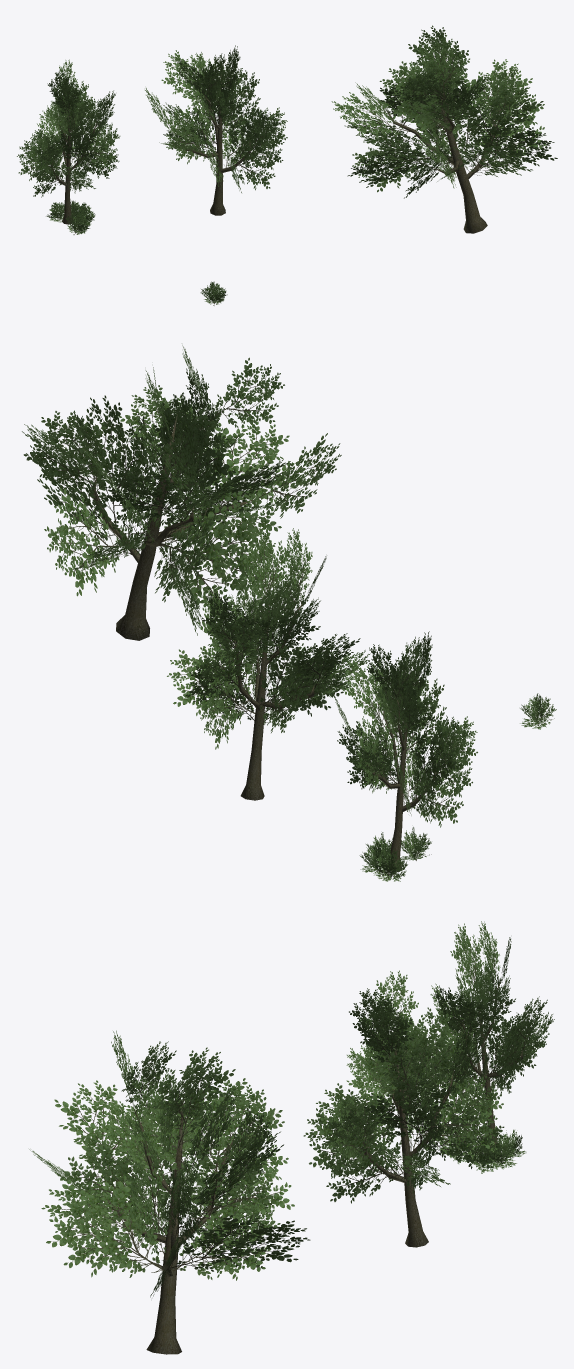
File: Trees_1_Lake_COMBO.fbx
3 renders of one model, top to bottom at view 1: azimuth 30°, elevation 25°; view 2: azimuth 150°, elevation 25°; view 3: azimuth 270°, elevation 25°, orthographic. The views are drawn at different scales.
Visible parts, largest first — view 1: Sun_0013_Large_tree; view 2: Sun_0013_Large_tree; view 3: Sun_0013_Large_tree.
Part boxes in pixels (x1,y1,x2,y2): Sun_0013_Large_tree: (17,25,557,305); Sun_0013_Large_tree: (22,345,556,881); Sun_0013_Large_tree: (29,921,554,1354).
Bounding box in the file's own units: 44.54 × 22.34 × 35.17.
